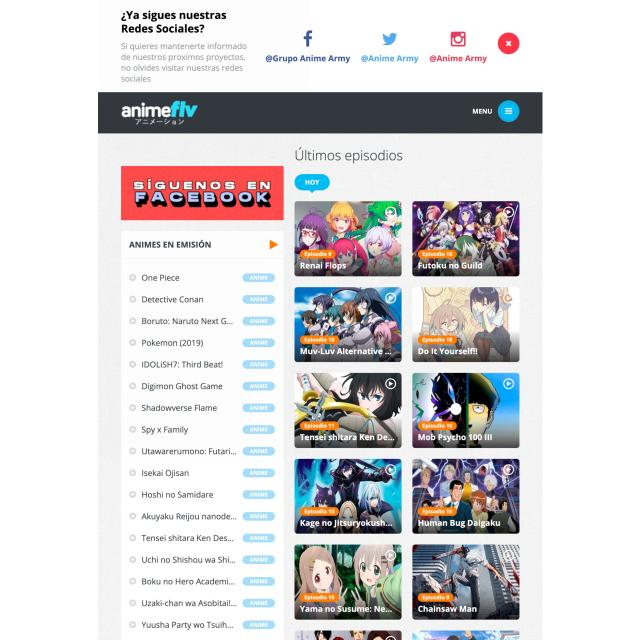logo: (118, 100, 201, 128)
navigation: (501, 102, 518, 120)
